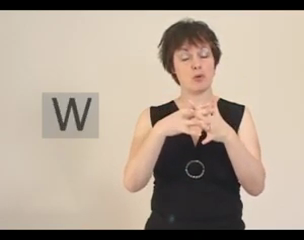W: (157, 94, 240, 149)
